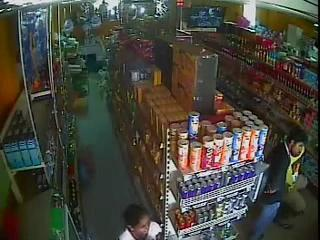Normal: (117, 204, 156, 240)
